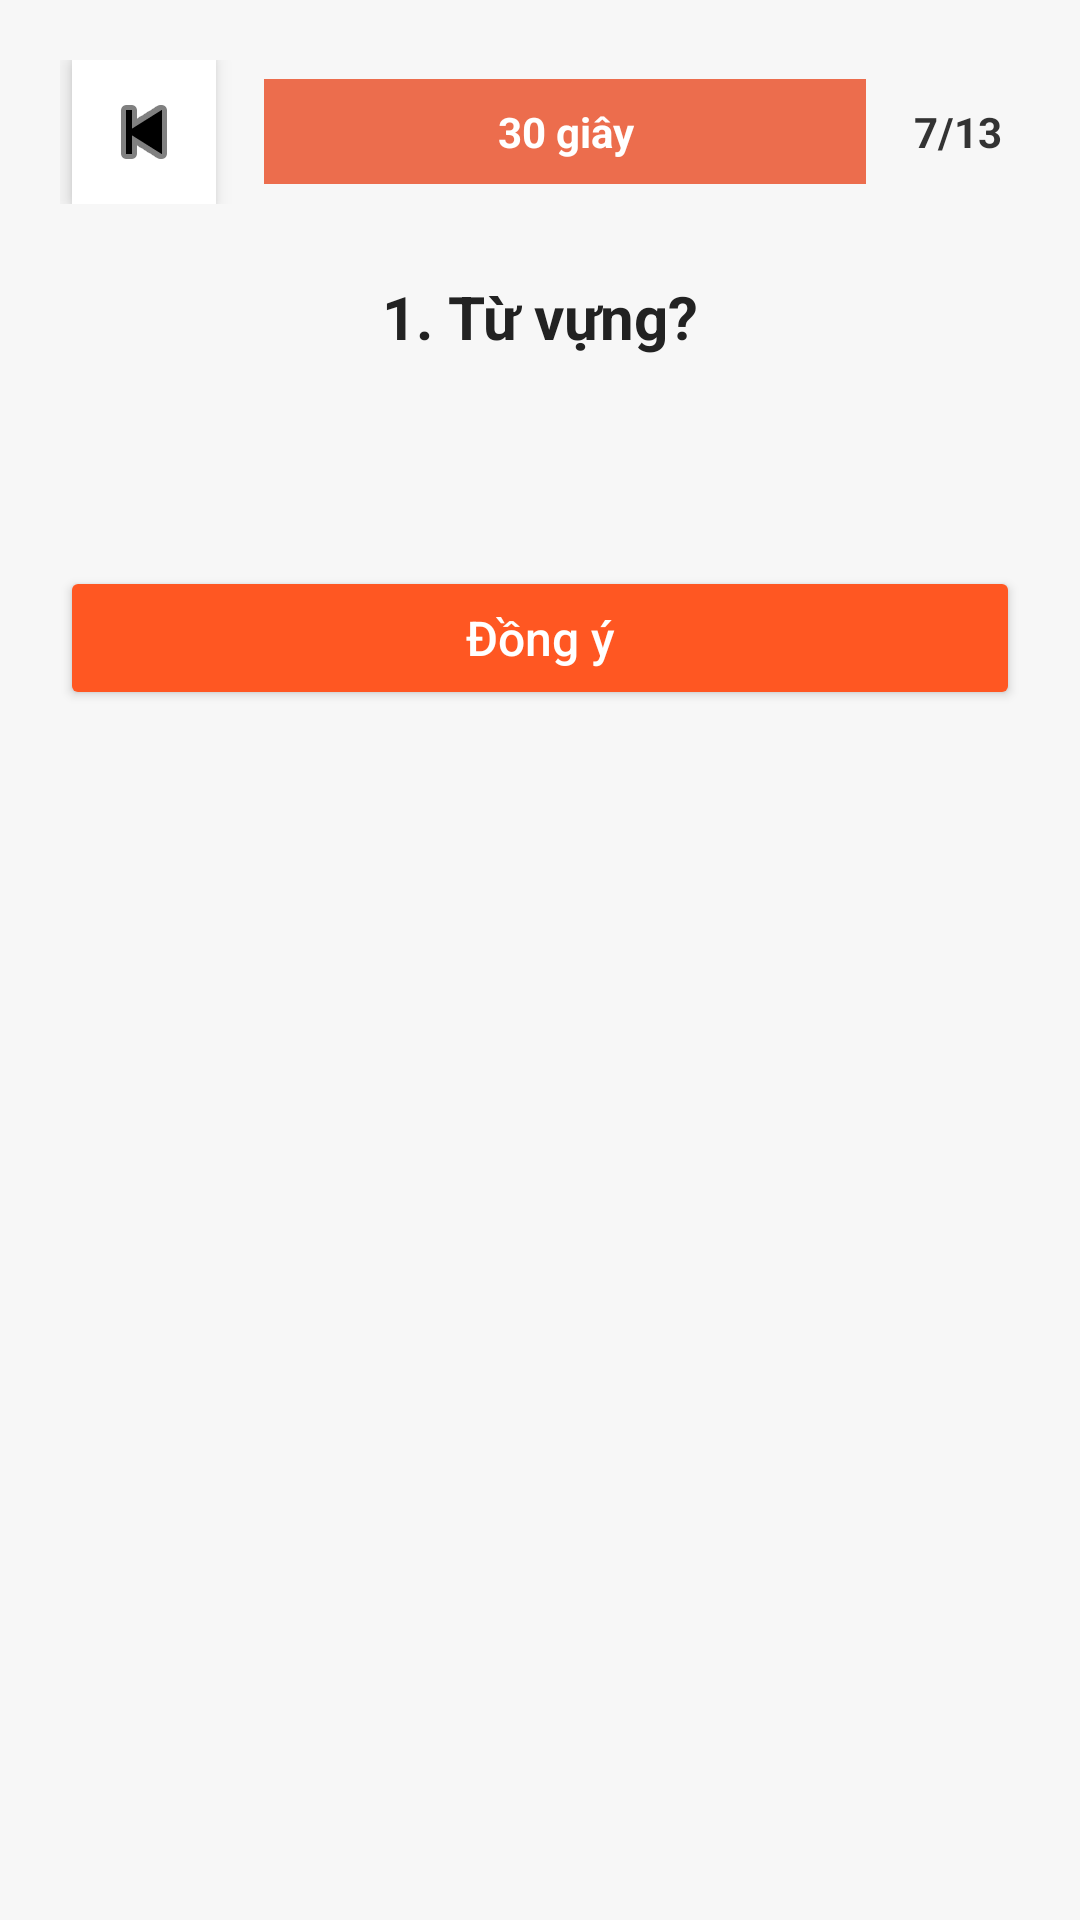

Icons on this 1080px×1920px Android screen, each with the point to tap as (x=x, y=y):
Quay lại: (x=144, y=132)
